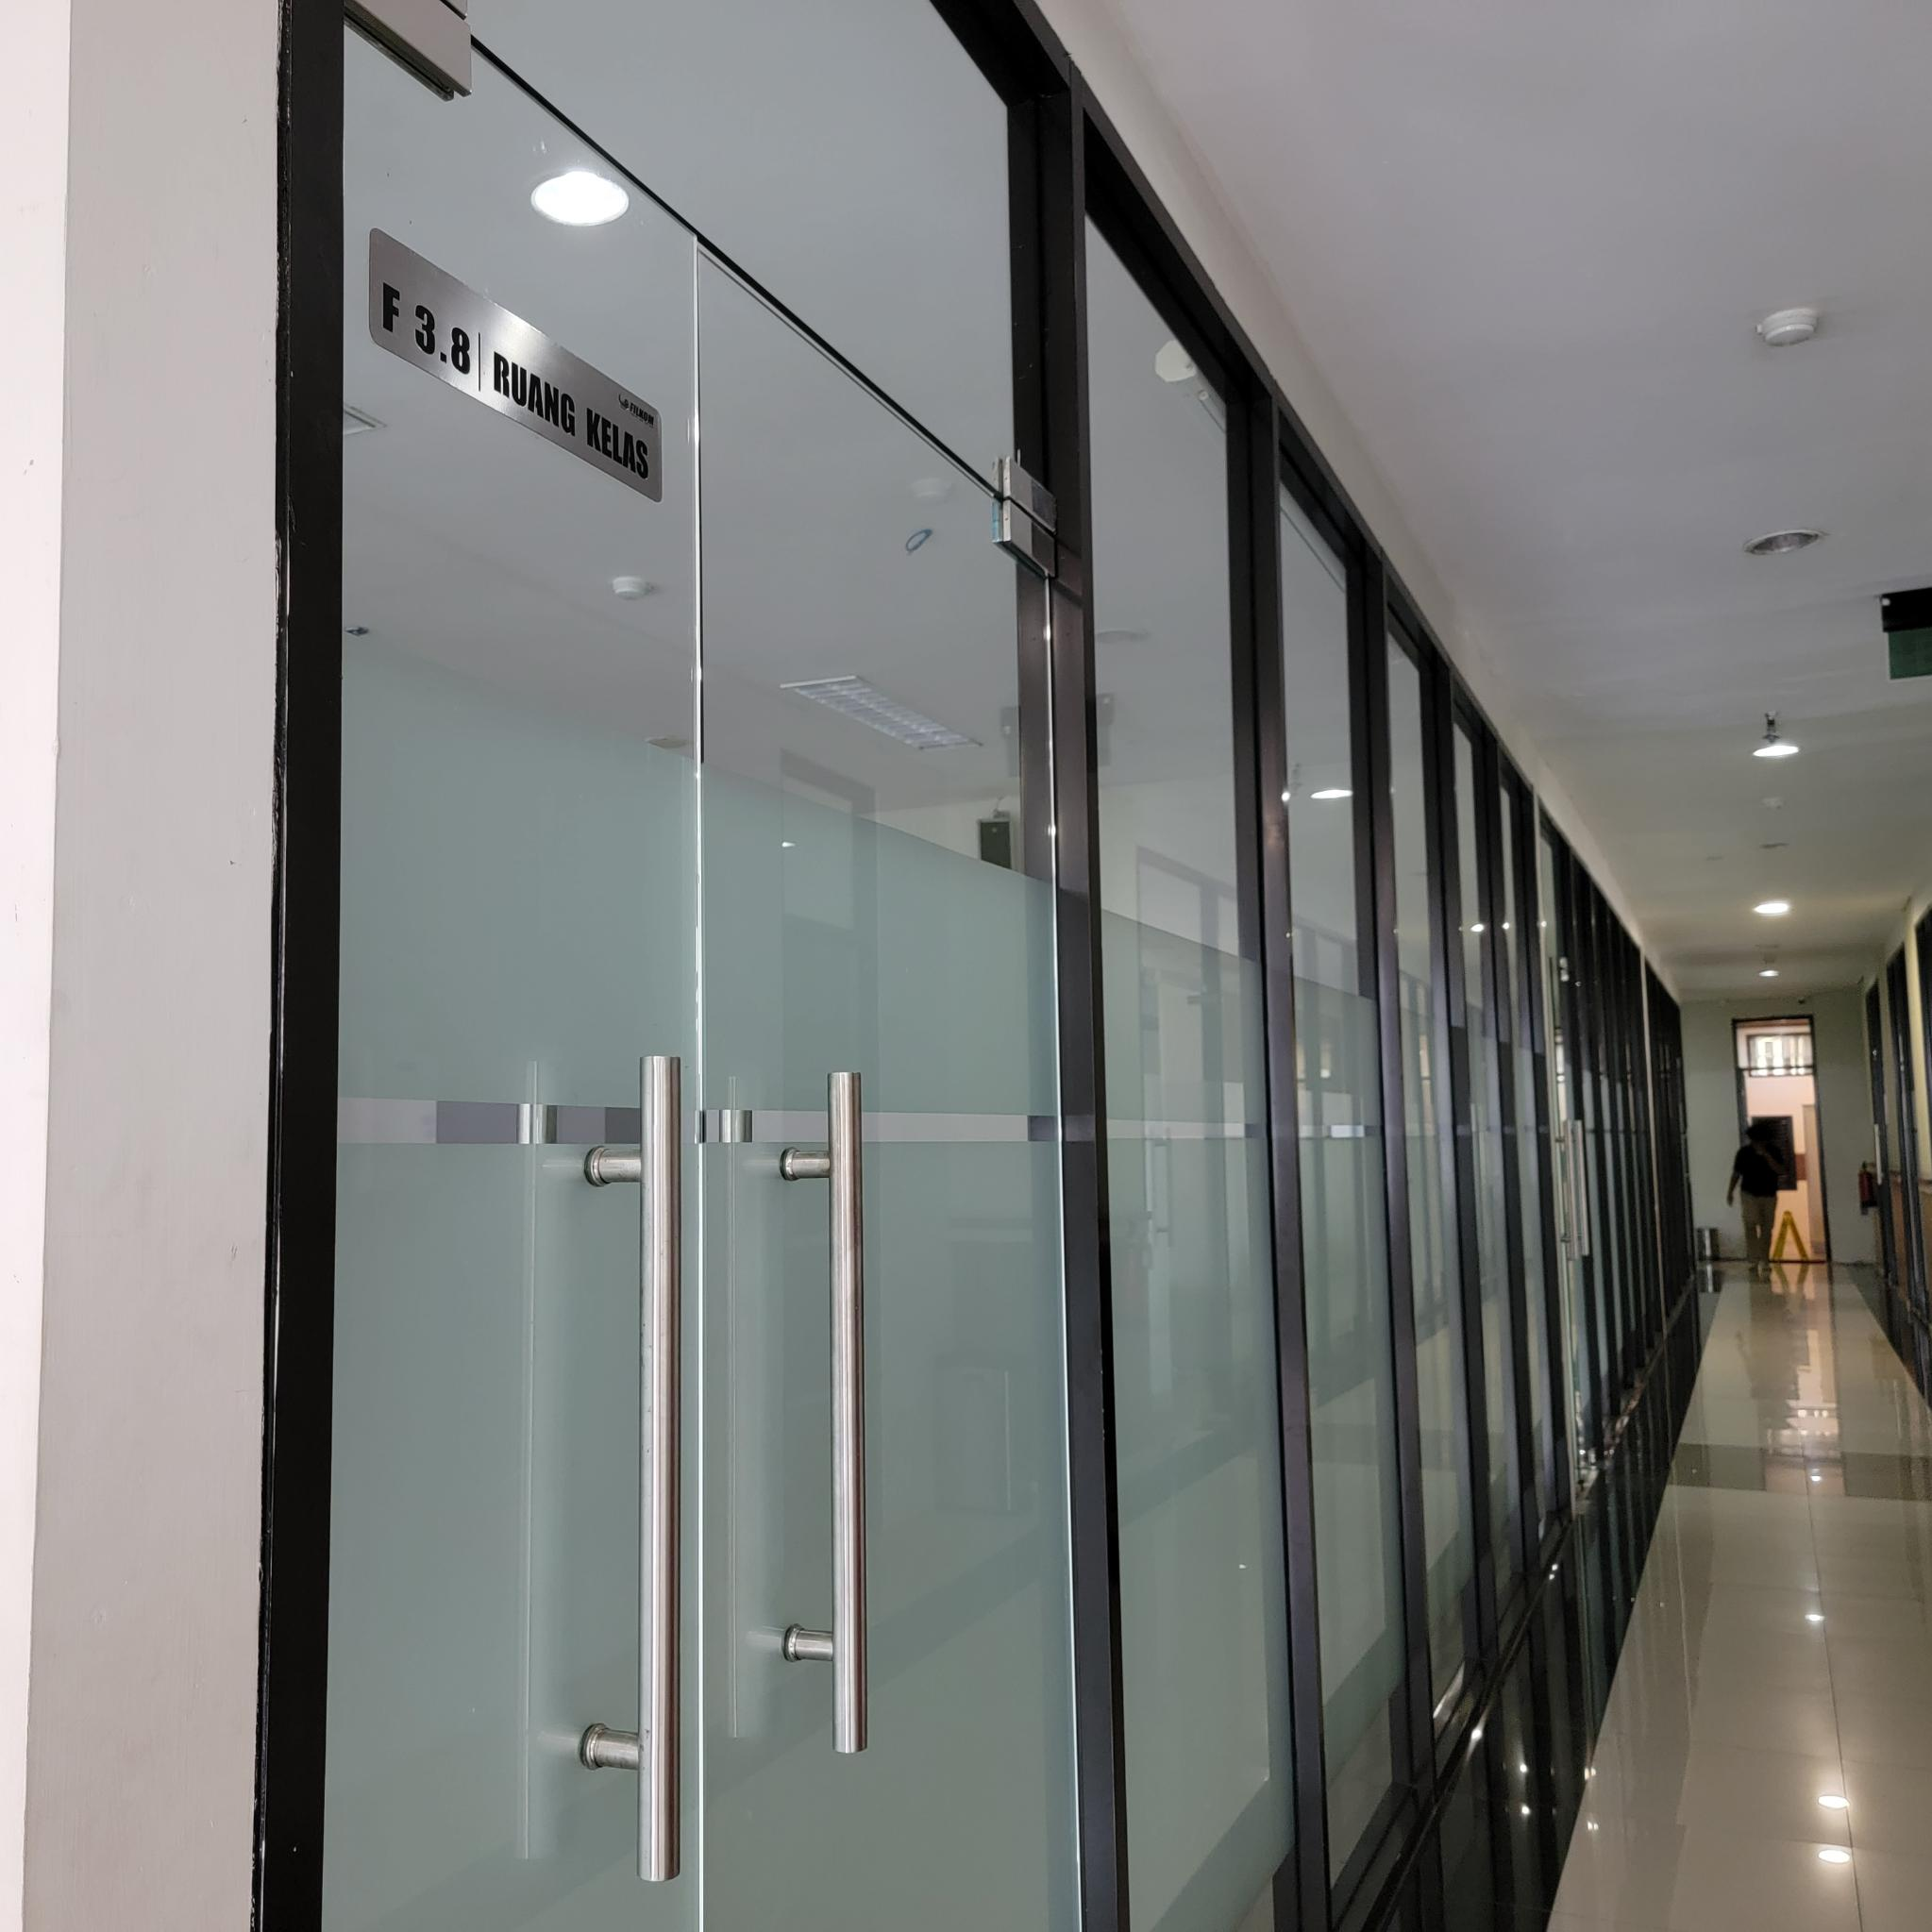plate: (366, 225, 663, 506)
